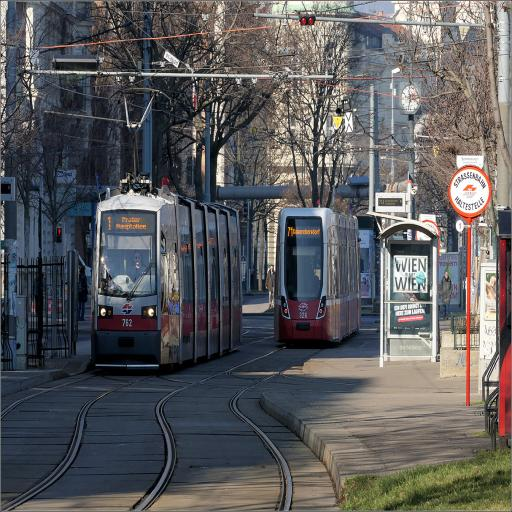Flexity: (272, 207, 360, 345)
ULF: (90, 187, 242, 369)
